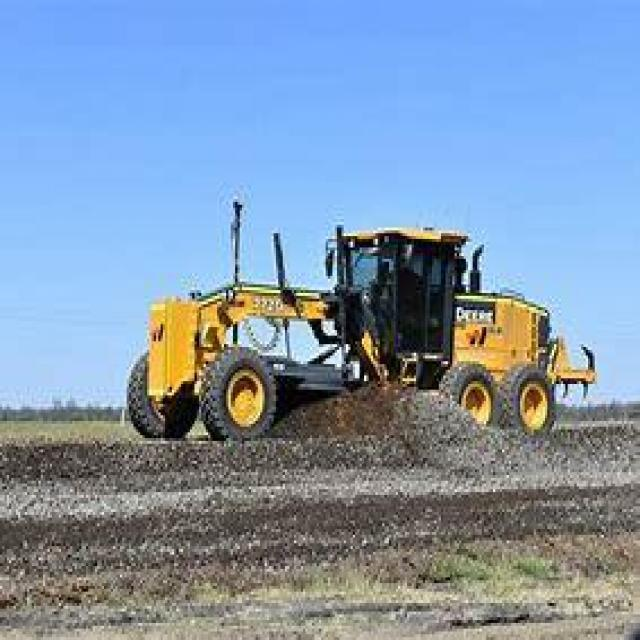Grader: (111, 207, 592, 463)
